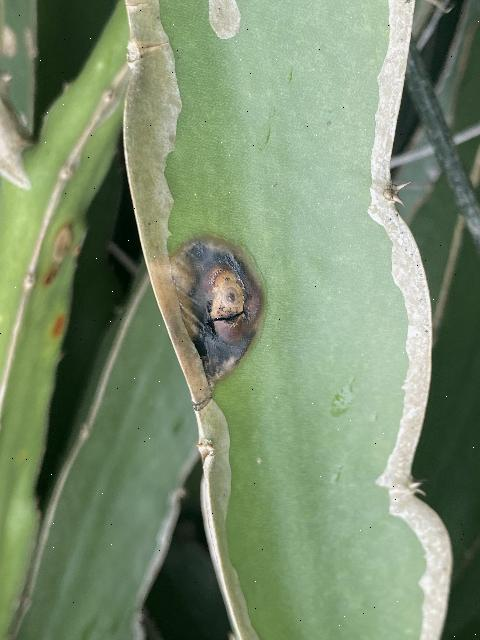stemcanker: (166, 225, 267, 380)
